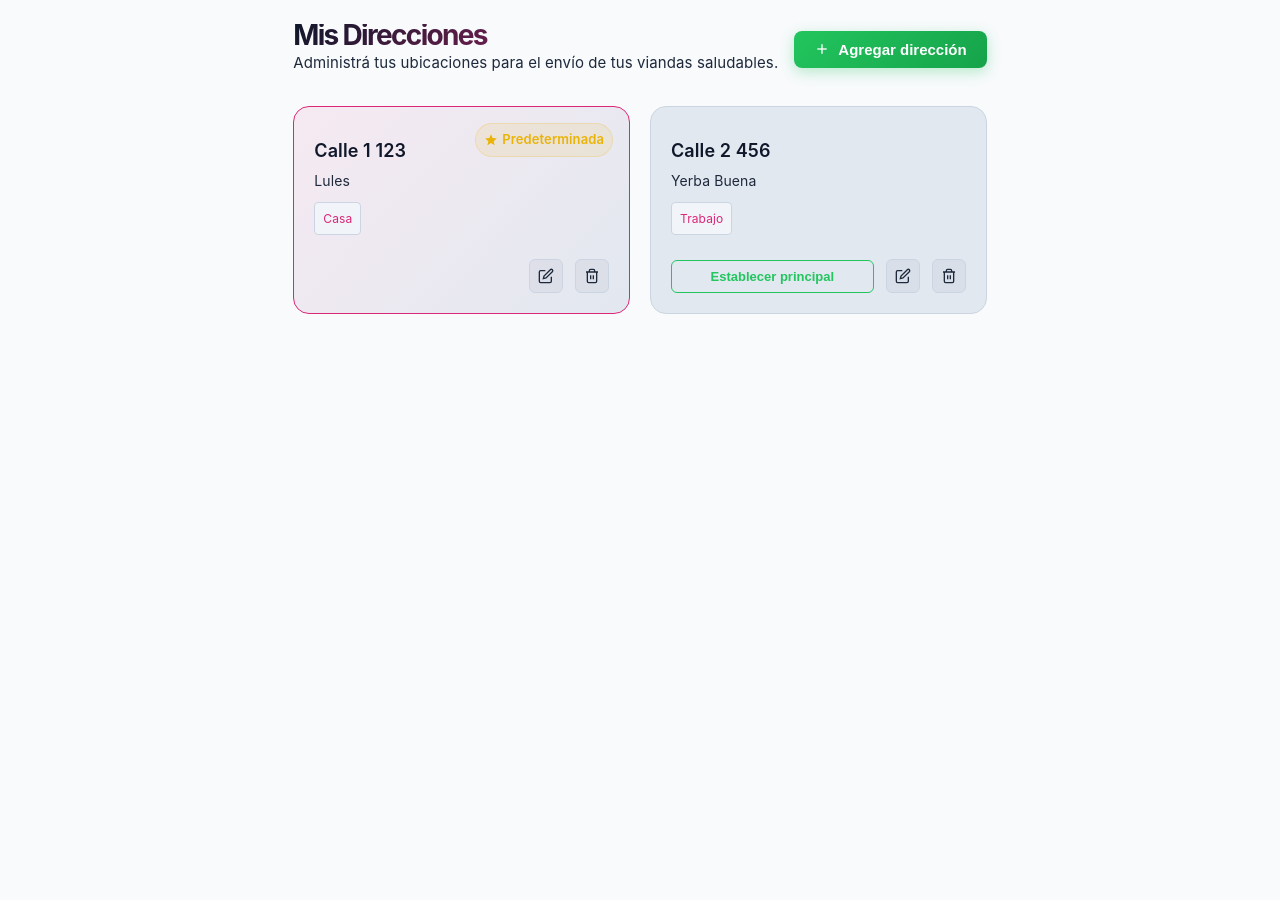
Test: AddressManager › should handle set default address action
The image size is (1280, 900).
Wait for list to render
Click the button "Establecer principal" at (772, 276), box [671,260,874,292]
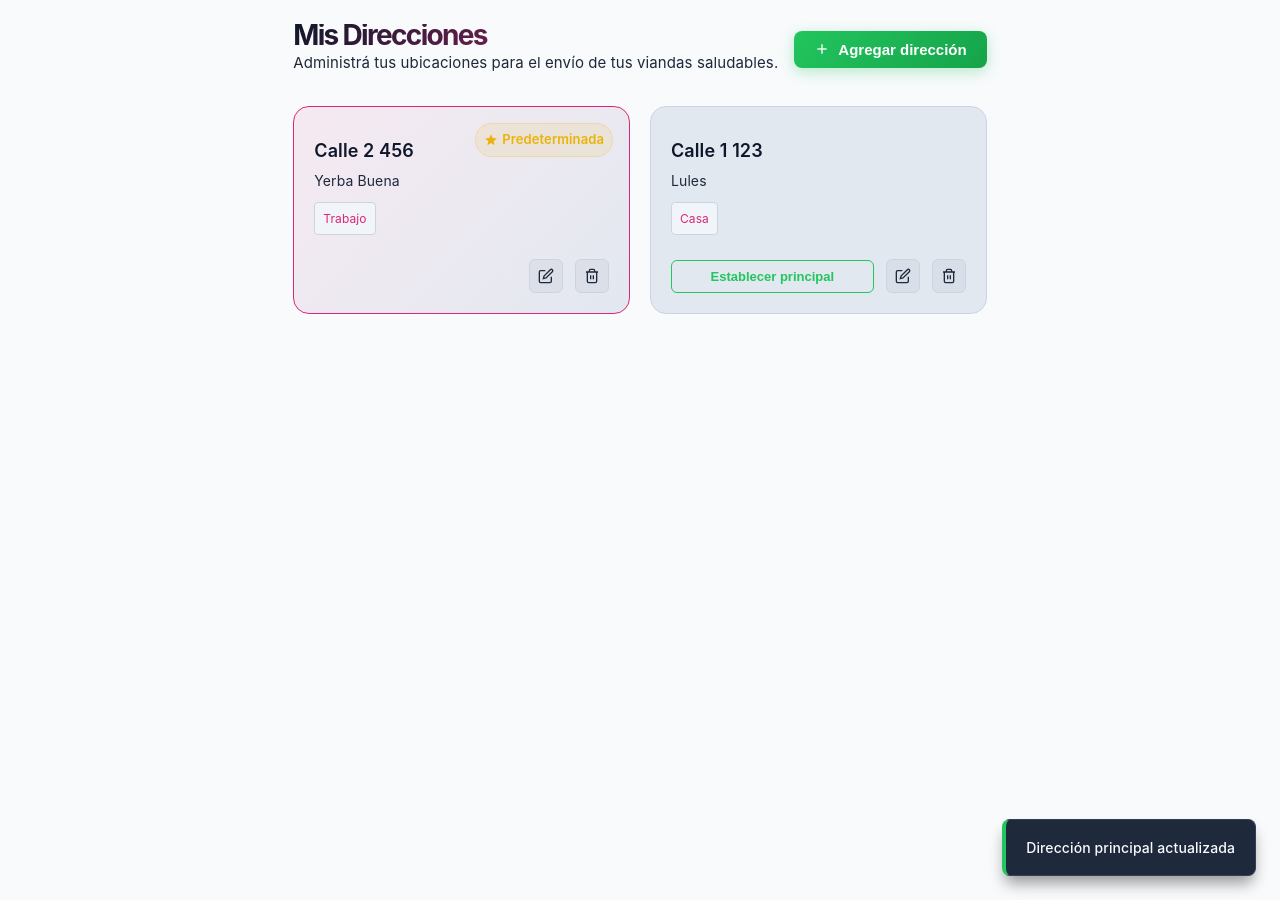
Now the text "Dirección principal actualizada" is shown, box [1002,819,1256,876]
